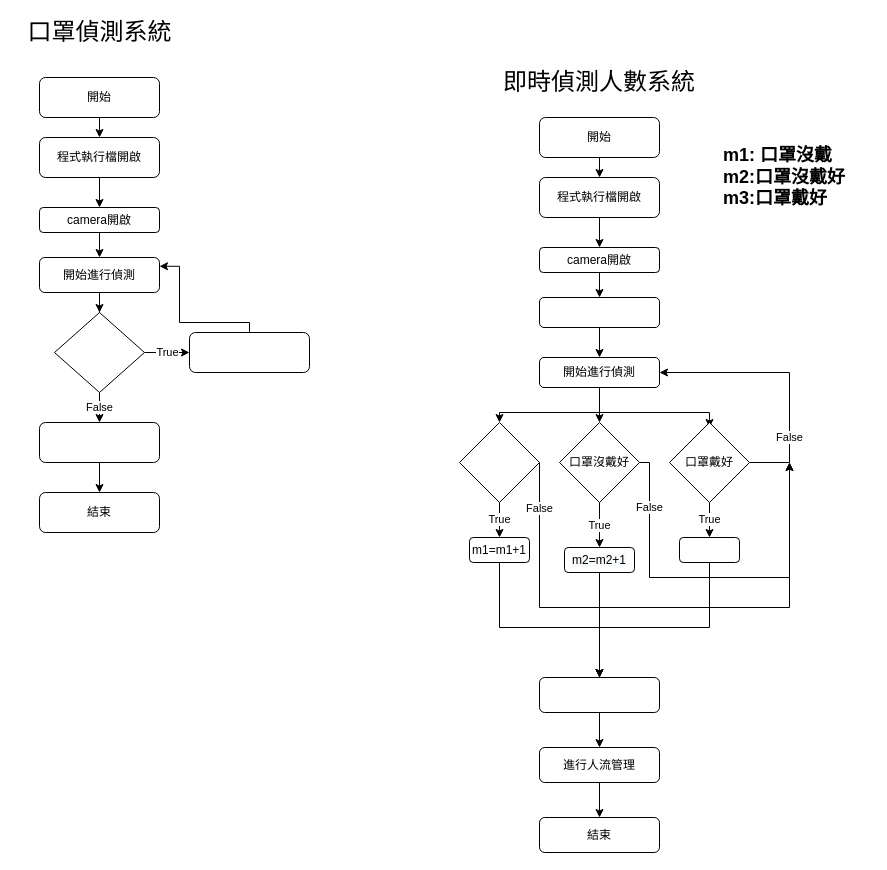
The diagram is 887 pixels wide and 870 high, and some of its shapes have lost their labels. Each missing label, with the centre of its shape:
m3=m3+1: (x=709, y=549)
即時更新介面的目前人數顯示: (x=599, y=694)
口罩沒戴: (x=499, y=462)
口罩沒有戴: (x=99, y=352)
每15秒發出"請把口罩戴起來"警告聲音: (x=249, y=352)
警告聲音關閉: (x=99, y=442)
顯示人數介面開啟: (x=599, y=312)
